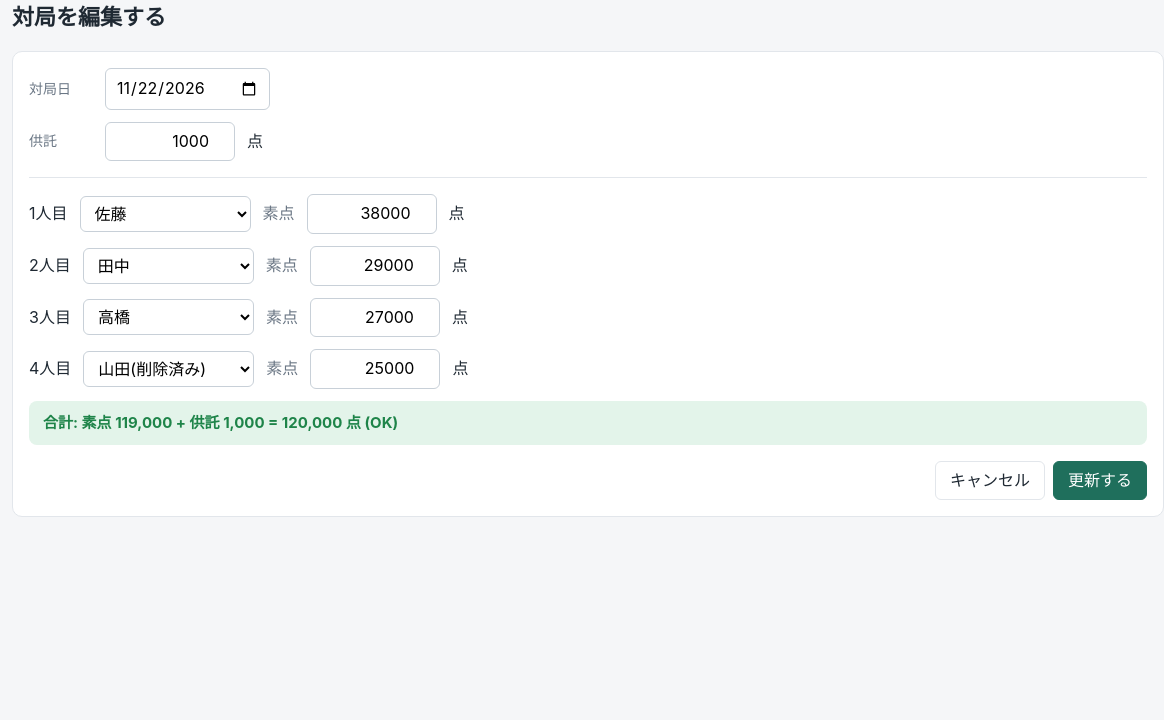
Scenario: 更新 › API が誤りを返したら、移動せずにメッセージを表示する
The width and height of the screenshot is (1164, 720).
Expected: the date field labelled "対局日" is shown, [105,68,270,110]
Step 1. Click the button "更新する" → (1100, 481), box [1053,461,1147,500]
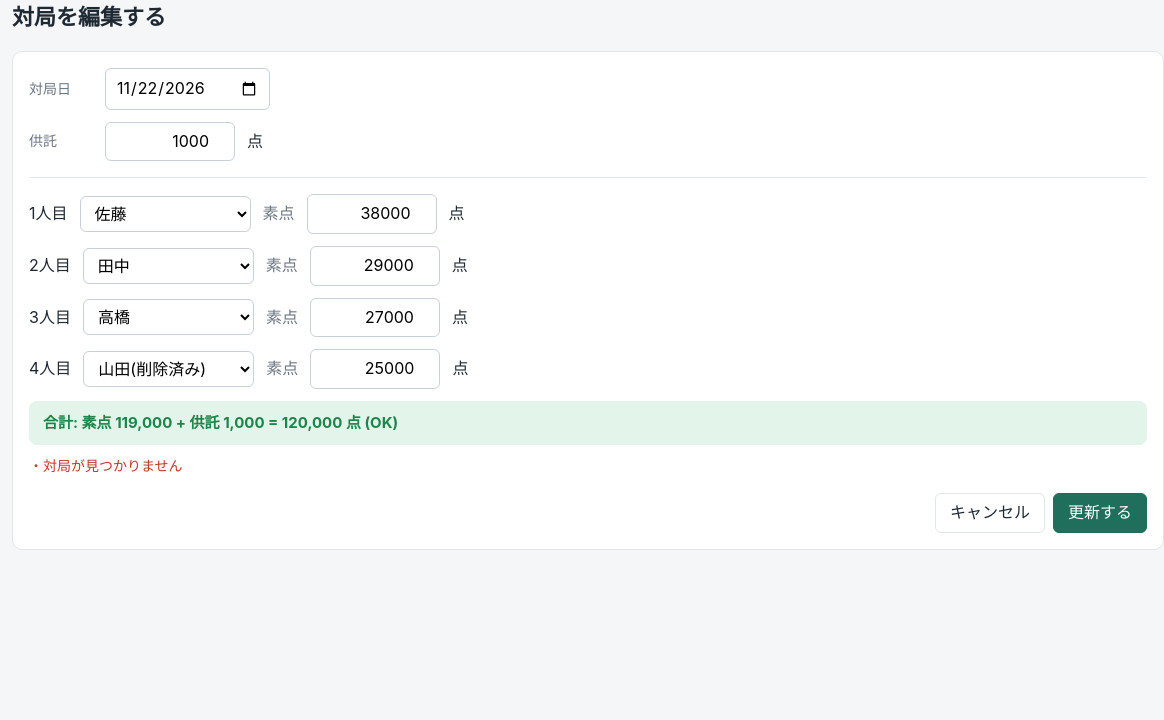
Result: the message reads "対局が見つかりません" at [43,457,183,474]
